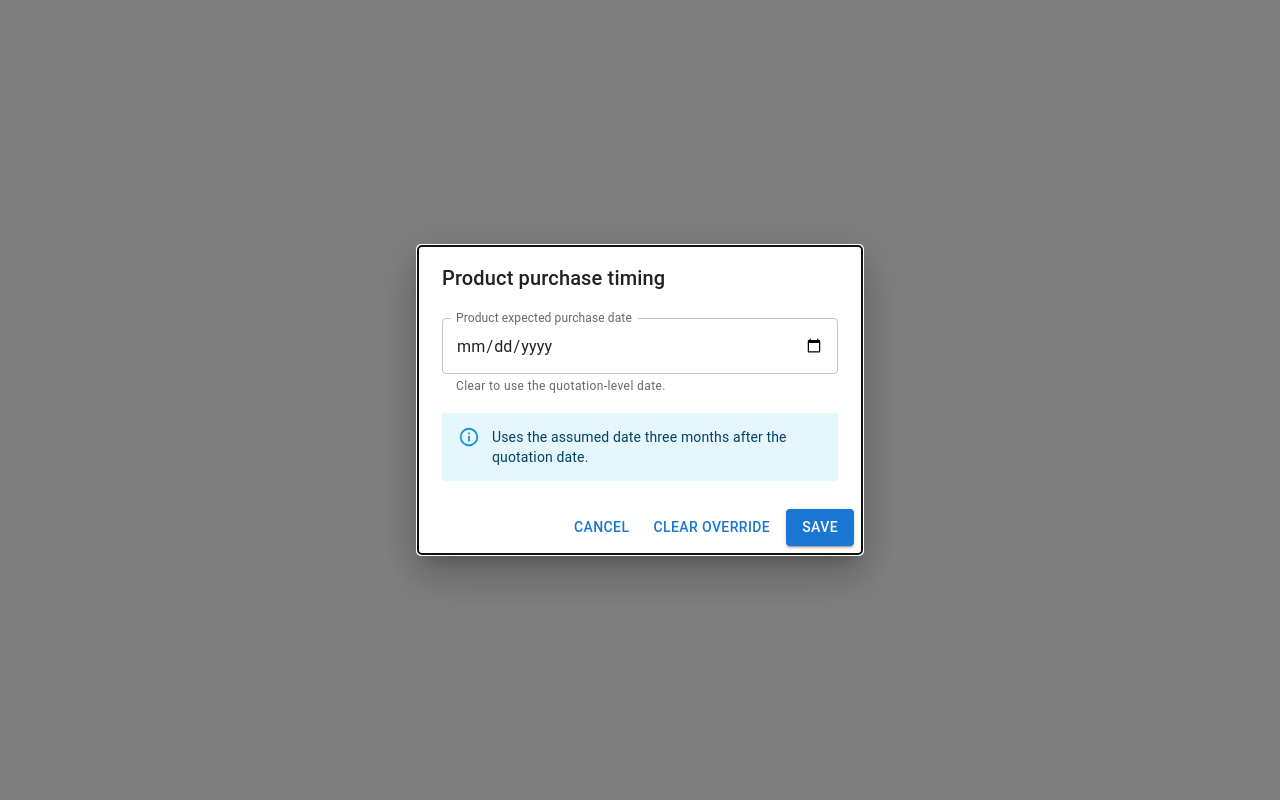
Scenario: rejects a date before the quotation date
This screenshot has width=1280, height=800.
Type "2025-12-31" into the date field labelled "Product expected purchase date".
click(640, 346); type("2025-12-31")  # box [442,318,838,374]
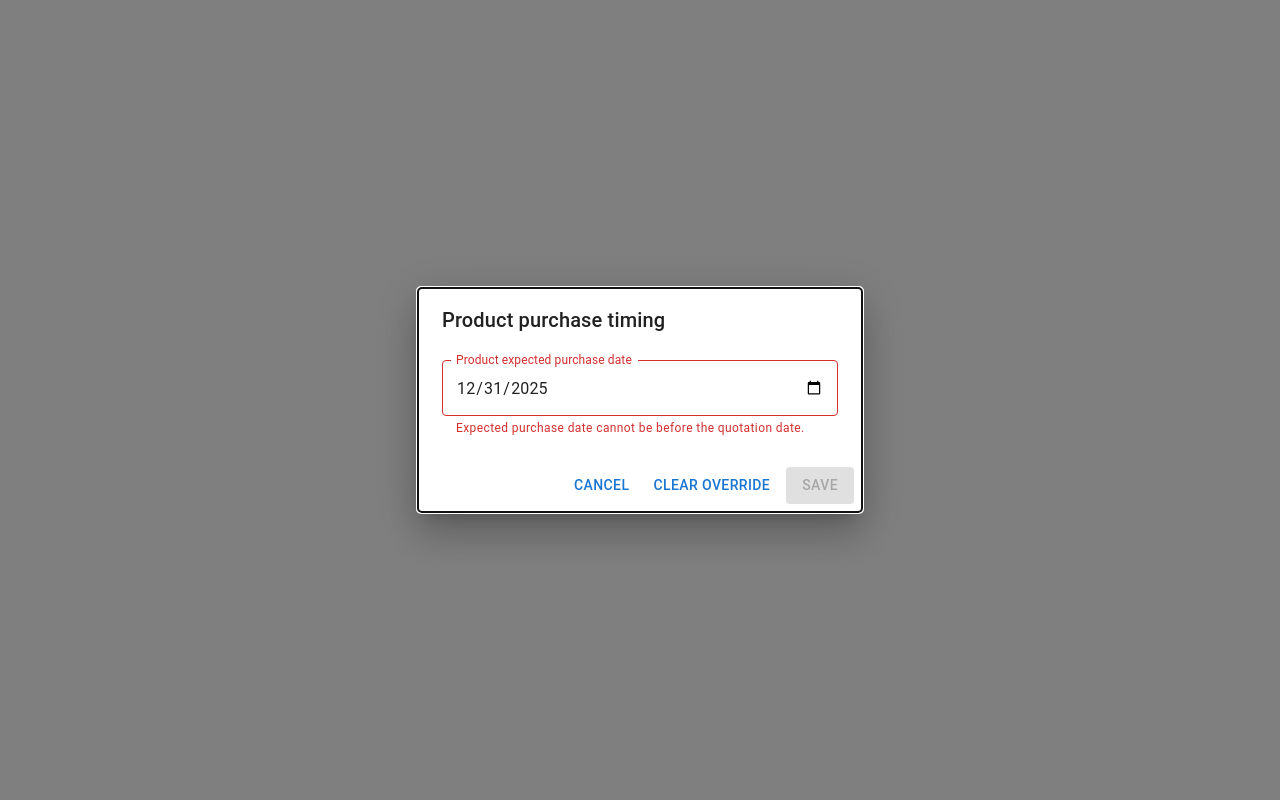
Expected: the button "Save" is disabled, [786,467,854,504]
Expected: the text "Expected purchase date cannot be before the quotation date." is shown, [456,419,824,439]
